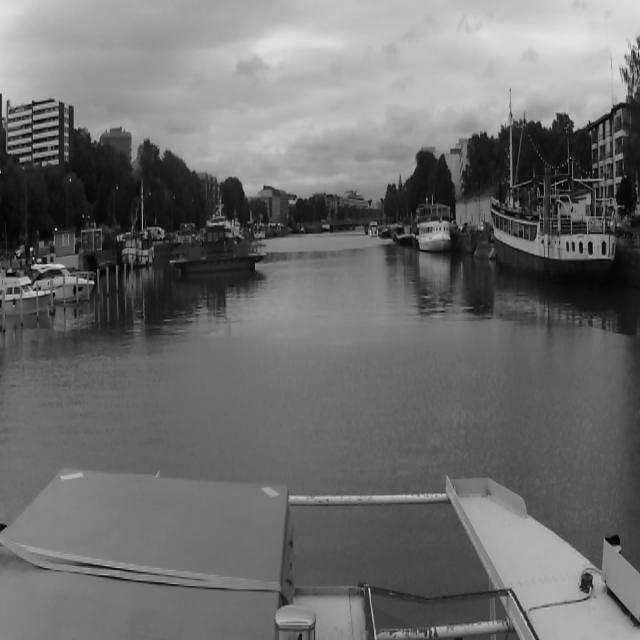ship: (490, 169, 614, 274), (169, 219, 267, 273), (14, 262, 94, 305), (0, 275, 46, 313), (416, 203, 451, 249), (122, 232, 154, 266), (389, 220, 417, 242), (368, 220, 378, 236), (382, 230, 390, 238)
